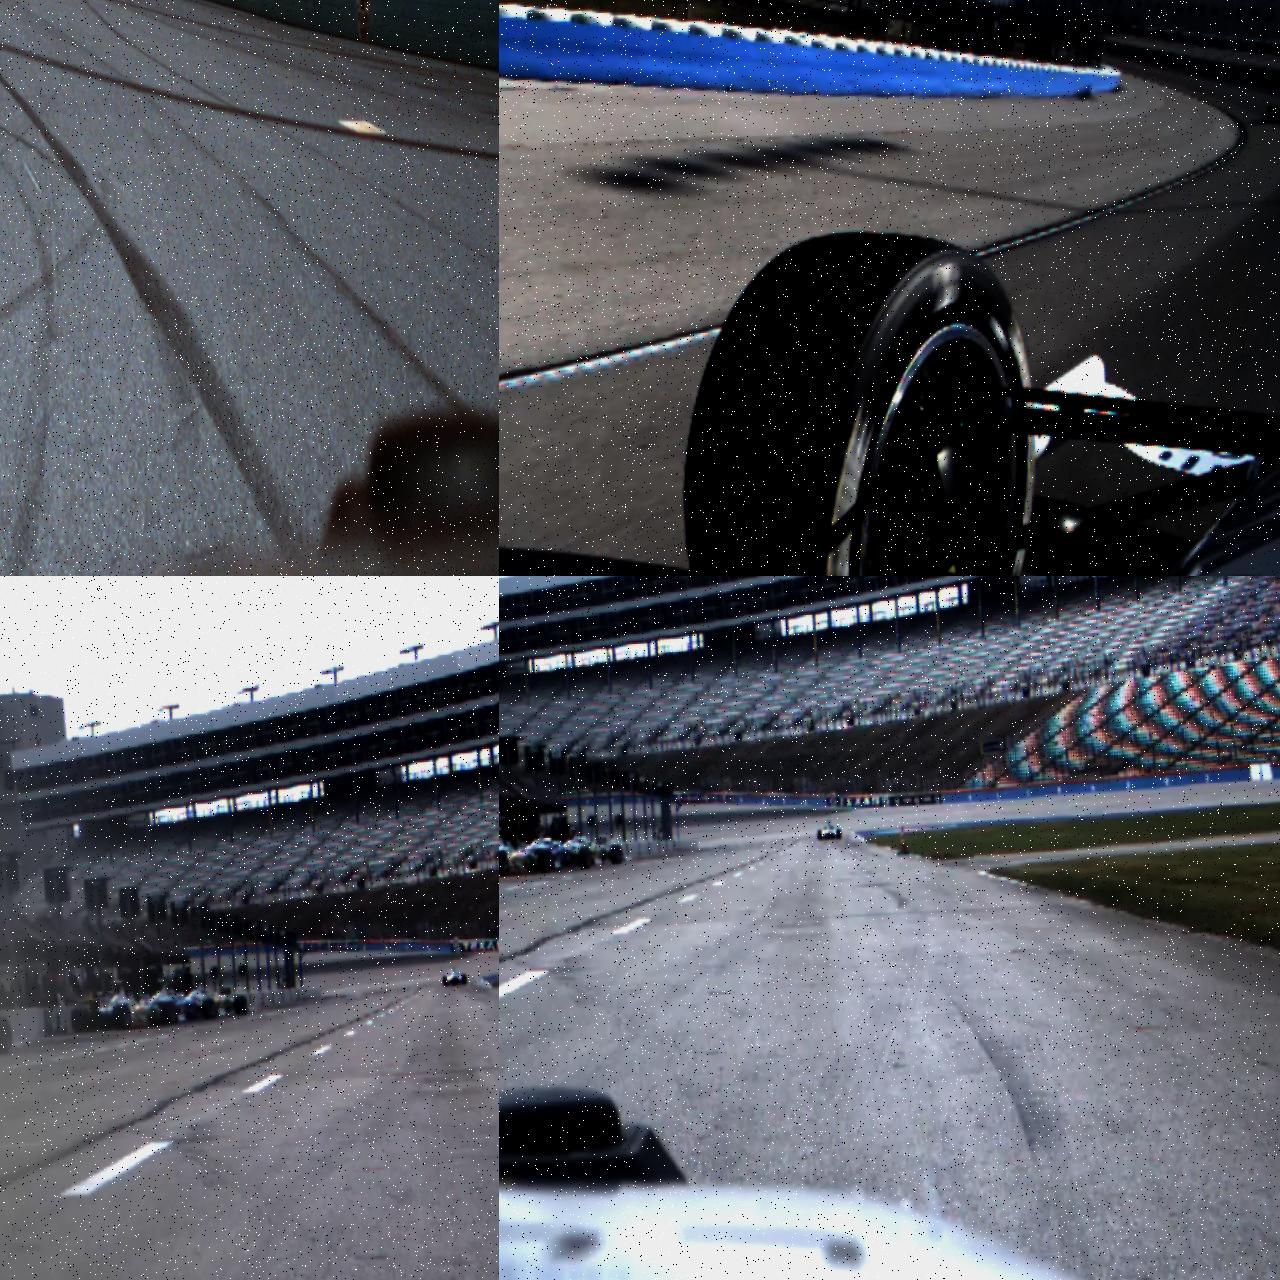AV: (499, 822, 555, 880), (1264, 90, 1280, 126), (816, 819, 841, 840), (442, 966, 467, 986)
Wheel: (670, 222, 1052, 576), (70, 1006, 90, 1032), (112, 1004, 131, 1030), (0, 1016, 12, 1054), (538, 848, 554, 873), (160, 1002, 178, 1024), (578, 846, 592, 869), (608, 844, 624, 864), (1265, 104, 1280, 124), (202, 998, 216, 1019), (234, 995, 248, 1015), (499, 849, 508, 876), (816, 829, 822, 840), (836, 828, 842, 839), (461, 974, 466, 984), (442, 976, 447, 984)
